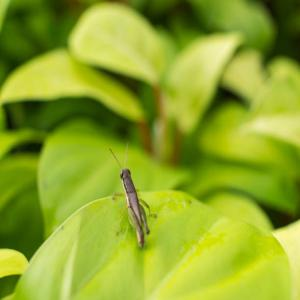locust: (100, 130, 162, 251)
